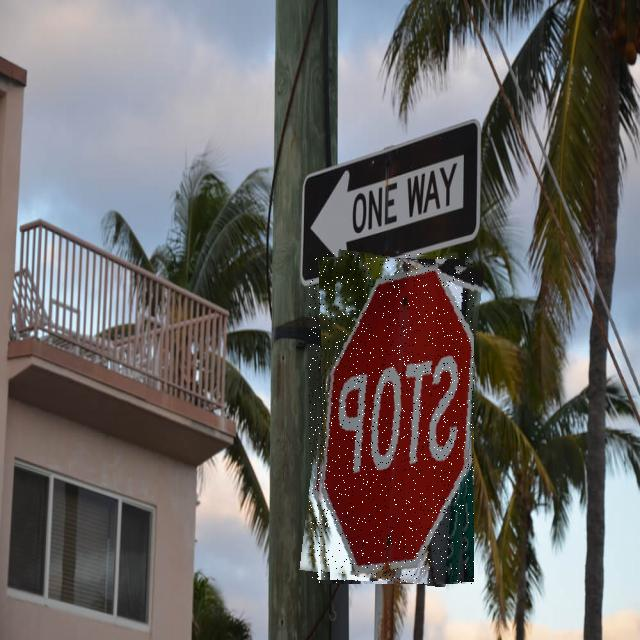stop: (309, 253, 474, 584)
